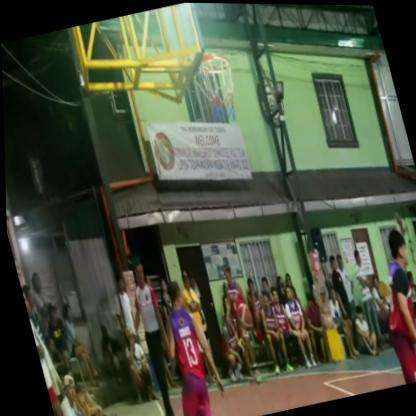basketball: (229, 297, 257, 338)
rim: (181, 31, 250, 143)
